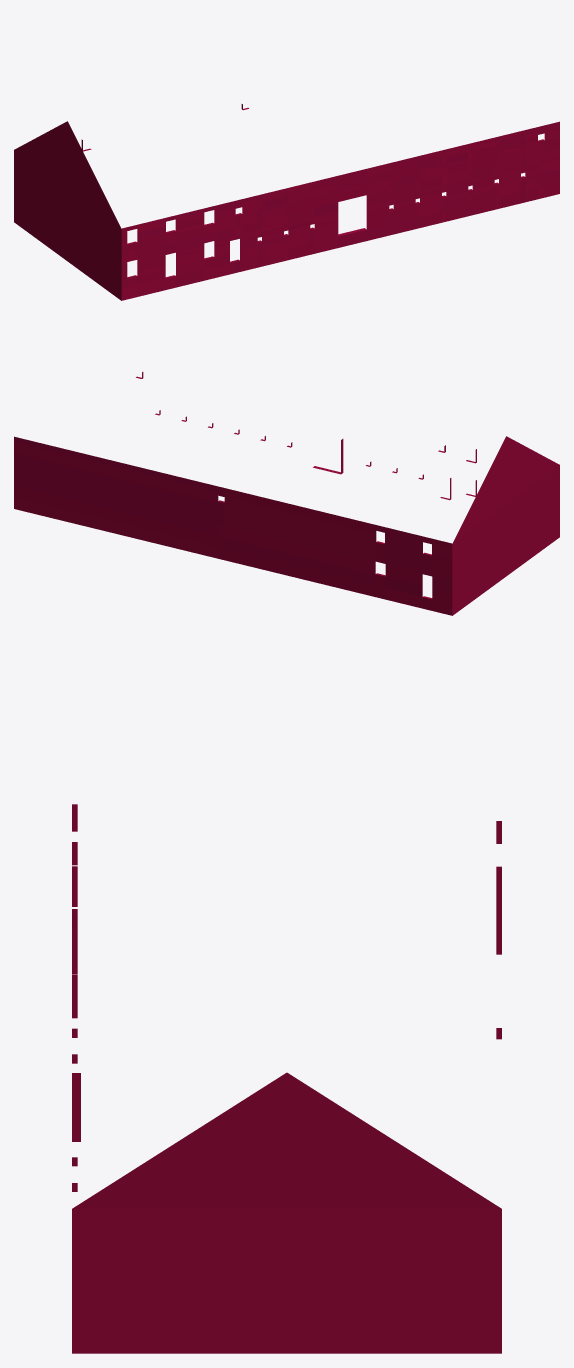
Rendered from SM_Bld_167_Masonry.glb.
3 renders of one model, top to bottom at view 1: azimuth 30°, elevation 25°; view 2: azimuth 150°, elevation 25°; view 3: azimuth 270°, elevation 25°, orthographic. The views are drawn at different scales.
Parts seen in each view (by area): view 1: SM_Bld_167_Masonry; view 2: SM_Bld_167_Masonry; view 3: SM_Bld_167_Masonry.
Part boxes in pixels (x1,y1,x2,y2): SM_Bld_167_Masonry: (14, 104, 559, 300); SM_Bld_167_Masonry: (14, 372, 559, 615); SM_Bld_167_Masonry: (72, 804, 501, 1353).
Size of the model in its own units: 39.96 by 12.24 by 16.97.
